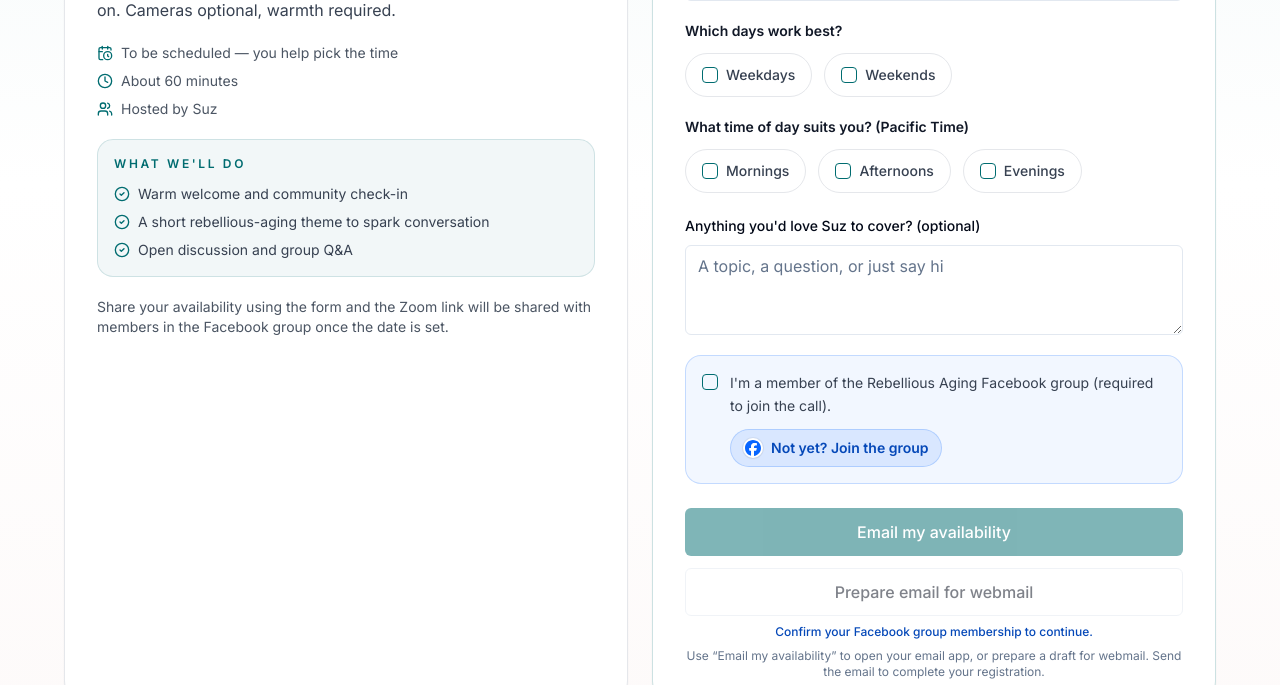
Test: visual content audit fixes › requires Facebook membership without putting the group link inside the membership label
This screenshot has width=1280, height=685.
(page scrolled)
expect the button "Email my availability" is disabled: met, box [685,508,1183,556]
Click the 6th checkbox named "I'm a member of the Rebellious Aging Facebook group": (710, 382) [702,374,718,390]
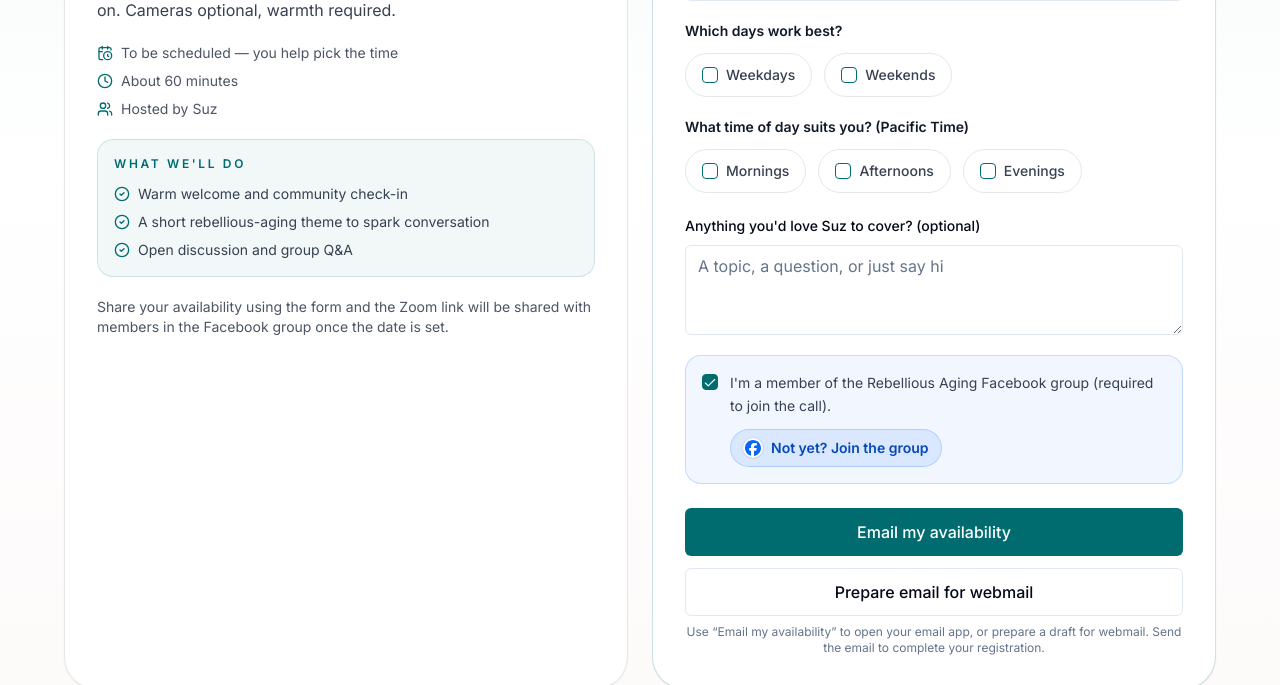
expect the button "Email my availability" is enabled: met, box [685,508,1183,556]
